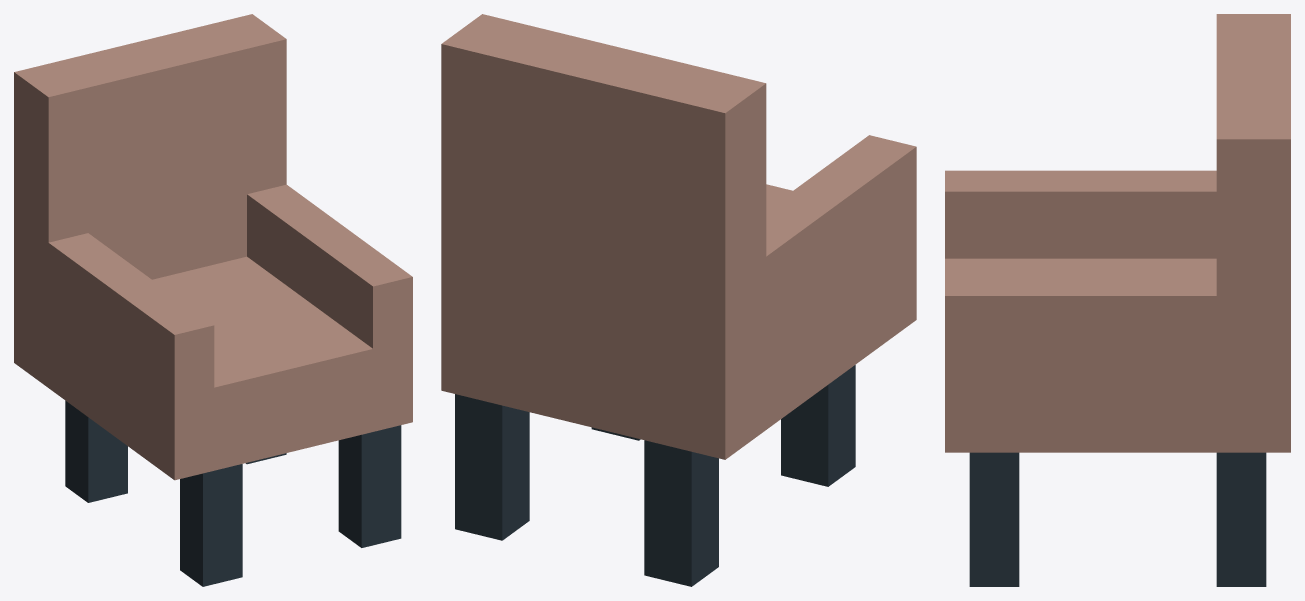
File: art-10.glb
3 renders of one model, left to right at view 1: azimuth 30°, elevation 25°; view 2: azimuth 150°, elevation 25°; view 3: azimuth 270°, elevation 25°, orthographic. The views are drawn at different scales.
Visible parts, largest first — view 1: Studio stool; view 2: Studio stool; view 3: Studio stool.
Part boxes in pixels (bbox=[...]): Studio stool: bbox=[14, 14, 412, 586]; Studio stool: bbox=[441, 14, 916, 586]; Studio stool: bbox=[945, 14, 1290, 586].
Size of the model in its own units: 0.96 by 1.6 by 1.12.
